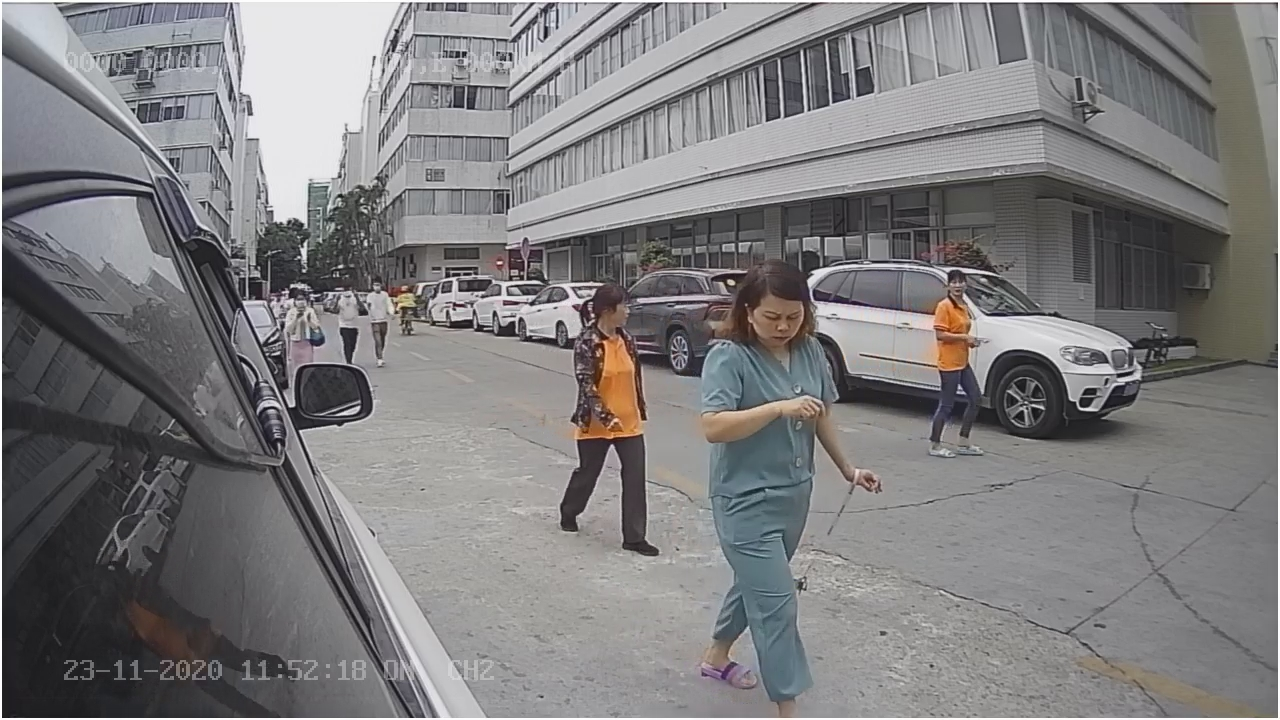person: (704, 263, 865, 716), (568, 283, 658, 563), (920, 260, 984, 461)
